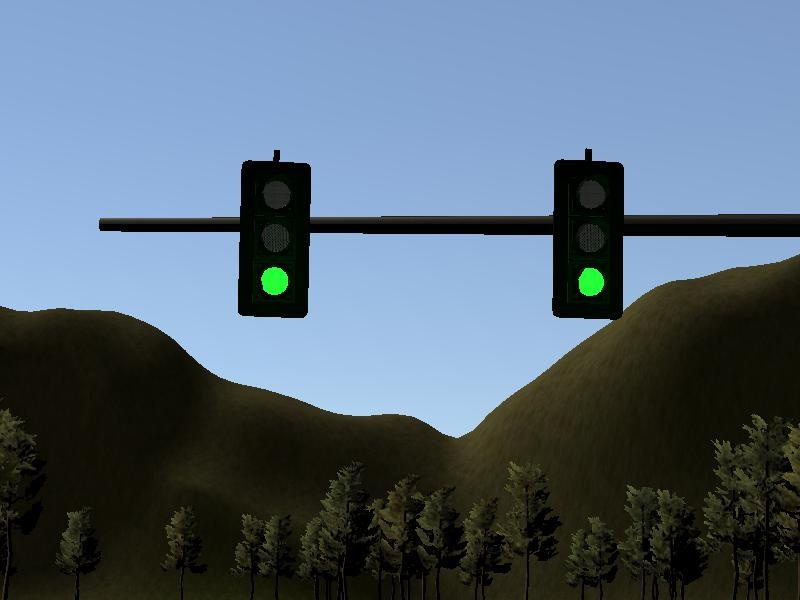traffic_light_green: (197, 151, 800, 322)
